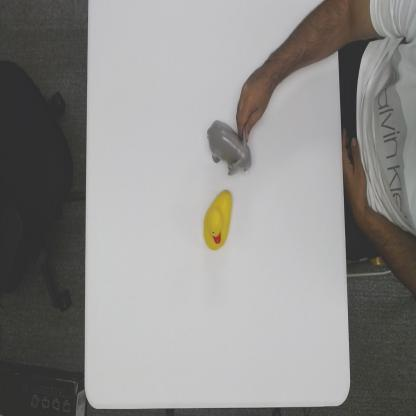Arm: (266, 2, 339, 88)
Duck: (202, 187, 235, 251)
Elephant: (206, 120, 253, 178)
Hand: (235, 67, 271, 144)
